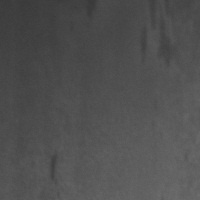inclusion: (135, 2, 179, 70), (44, 146, 64, 189)
